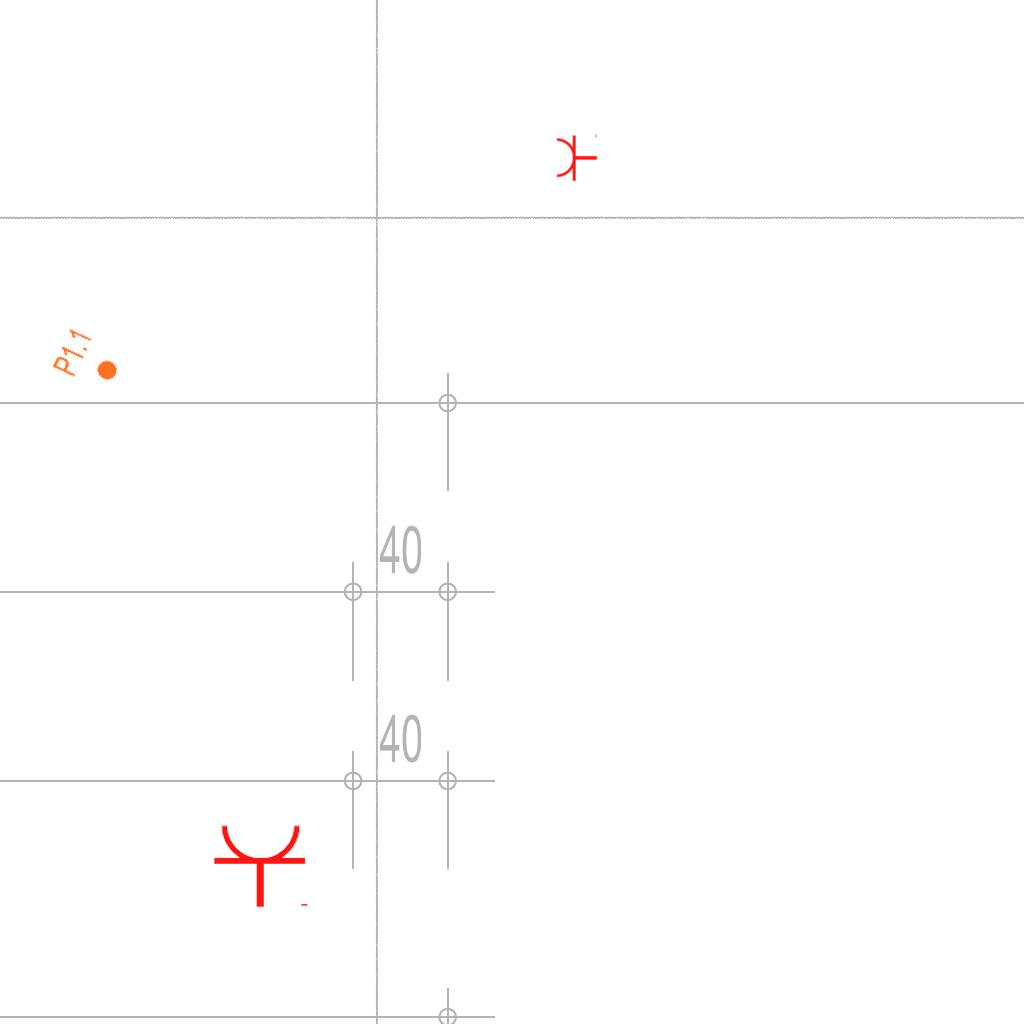Downlight_LED_Einbauleuchten_Flur: (50, 325, 128, 395)
Schukosteckdose_einfach: (212, 822, 312, 909), (555, 132, 598, 182)
